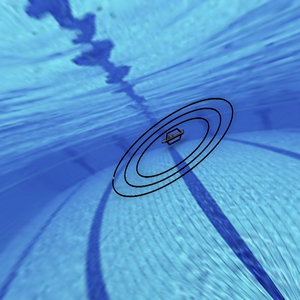circle: (99, 91, 265, 223)
submarine: (157, 125, 187, 150)
